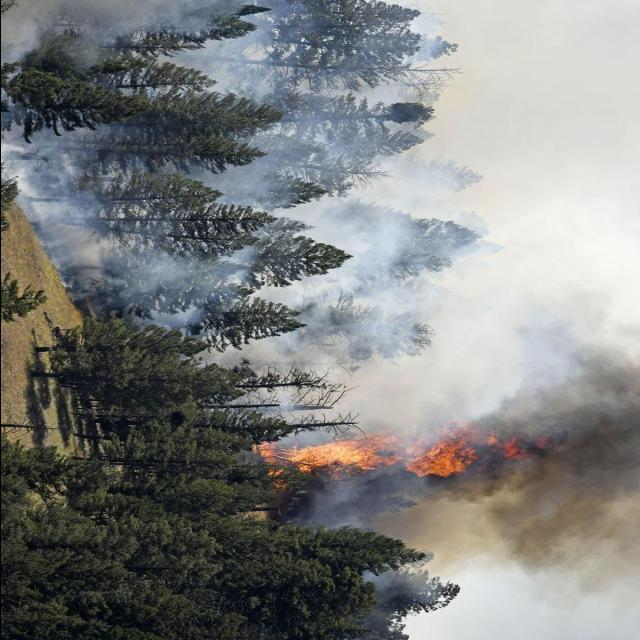Fire: (244, 401, 536, 489)
